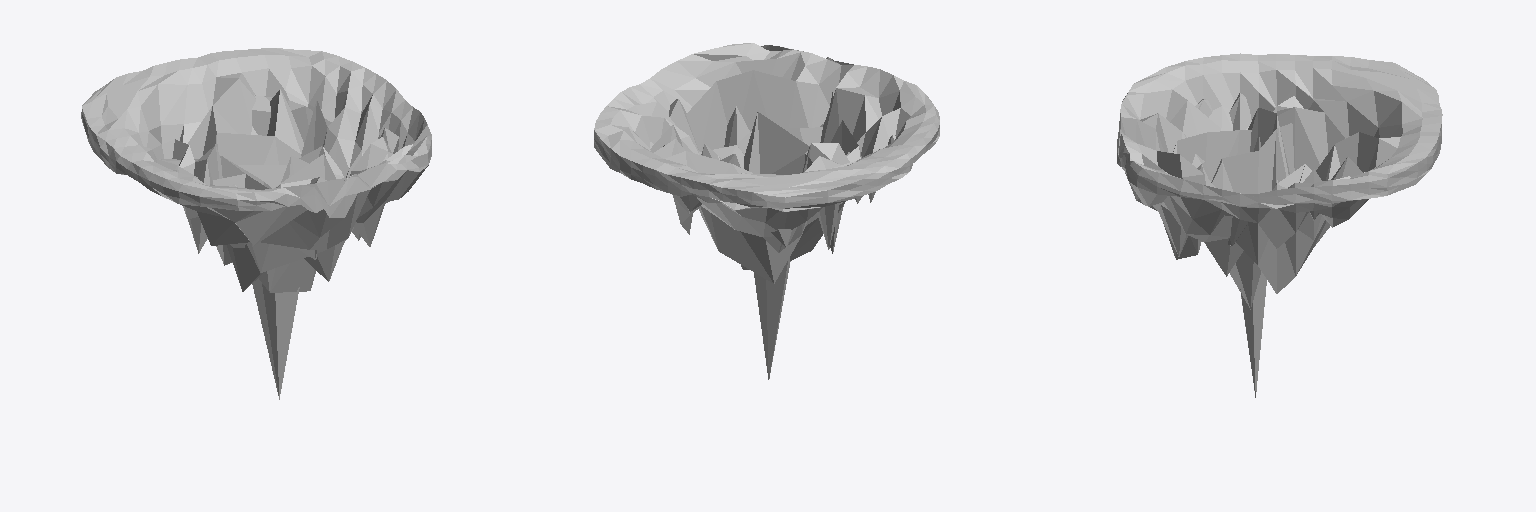
File: C3_below.obj
The picture shows the model from 3 angles: view 1: azimuth 30°, elevation 25°; view 2: azimuth 150°, elevation 25°; view 3: azimuth 270°, elevation 25°; orthographic projection.
Parts seen in each view (by area): view 1: Куб; view 2: Куб; view 3: Куб.
Part boxes in pixels (x1,y1,x2,y2): Куб: (81,48,431,399); Куб: (594,43,939,379); Куб: (1117,53,1442,397).
Size of the model in its own units: 64.11 by 60.02 by 64.33.